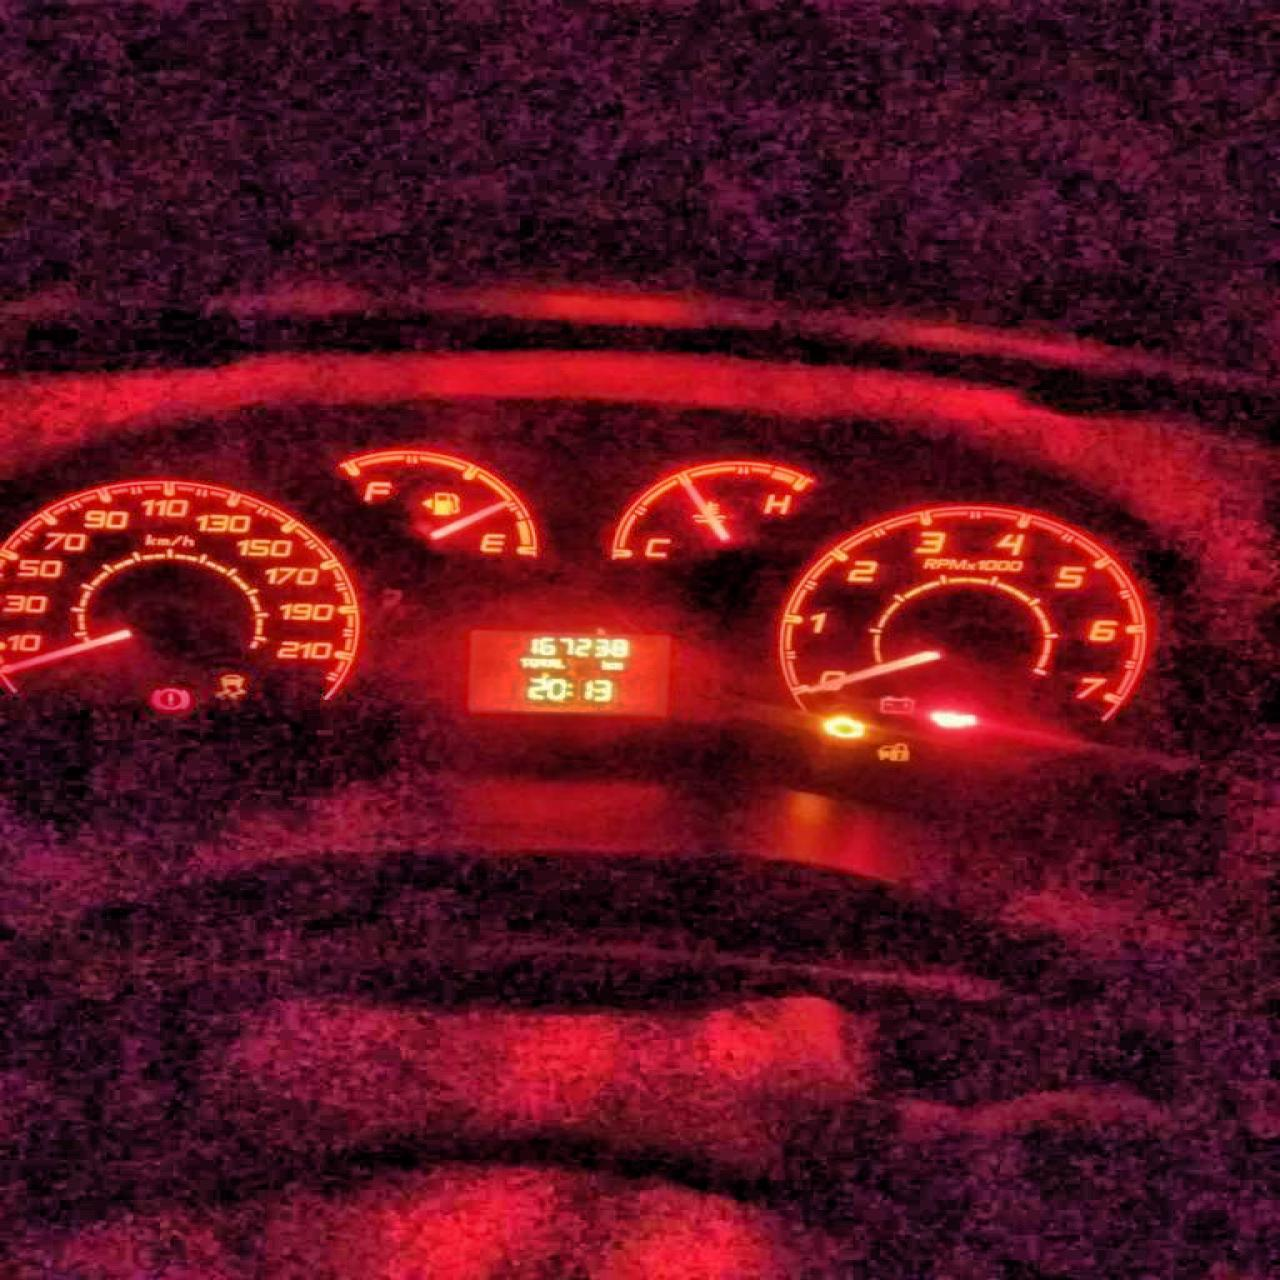0: (545, 678, 565, 699)
1: (584, 679, 592, 699), (529, 638, 537, 654)
2: (525, 676, 545, 700), (576, 636, 592, 656)
3: (592, 679, 612, 700), (592, 636, 608, 658)
6: (537, 635, 556, 655)
7: (557, 636, 573, 654)
8: (608, 638, 628, 658)
odometer: (463, 625, 676, 716)
